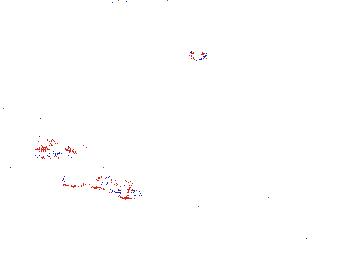red belly glassfish: (170, 47, 208, 62)
redtail glassfish: (40, 138, 145, 199), (1, 52, 36, 77)
siberian prawn: (1, 242, 96, 260)
